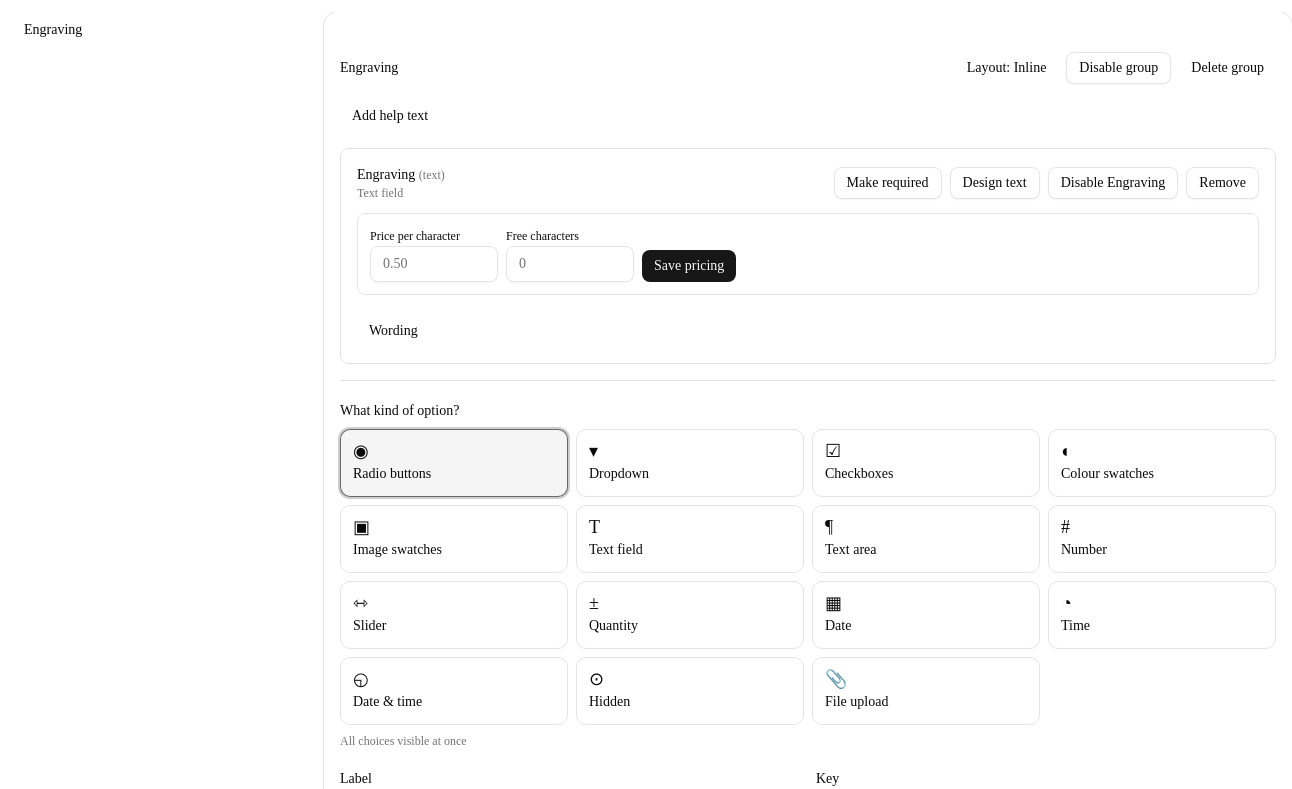
Scenario: option wording › shows stored wording
The image size is (1292, 789).
Step 1. Click the button "Wording" → x=393, y=331, box [357,315,430,347]
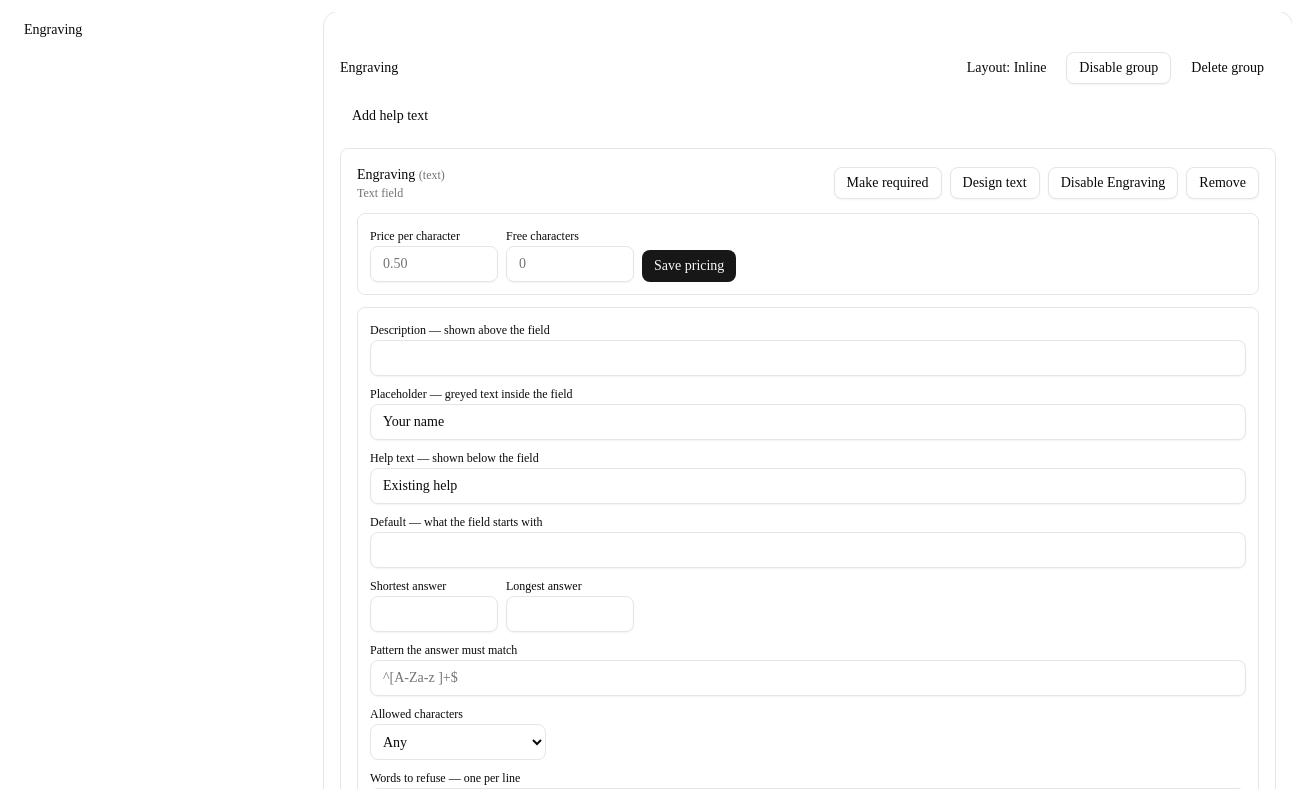
expect the field labelled "Help text — shown below the field" holds "Existing help": met, box [370,468,1246,504]
expect the field labelled "Placeholder — greyed text inside the field" holds "Your name": met, box [370,404,1246,440]
